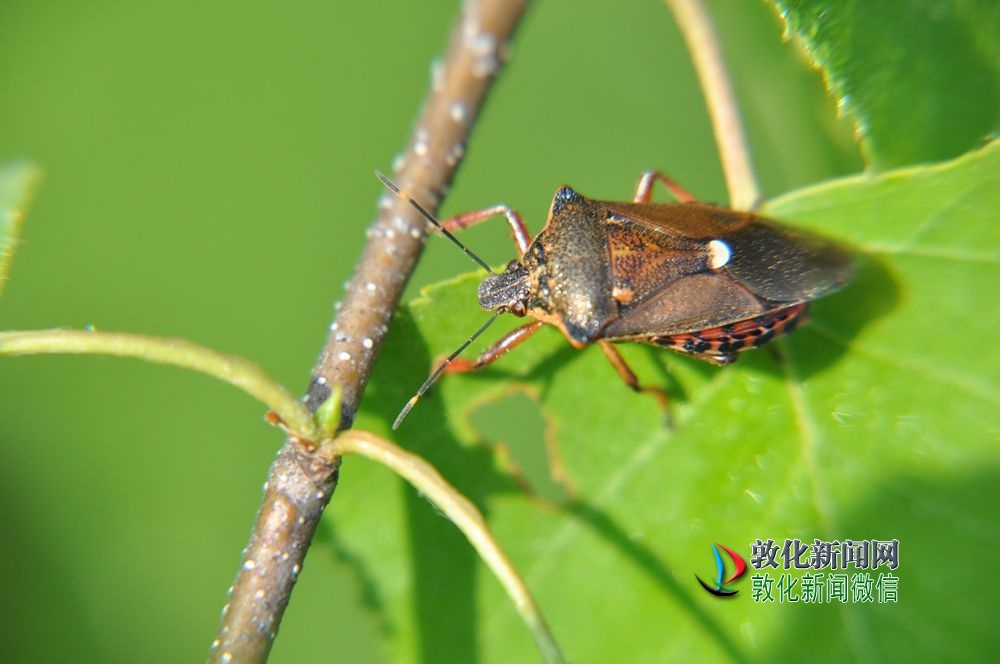chunchong: (436, 170, 880, 386)
